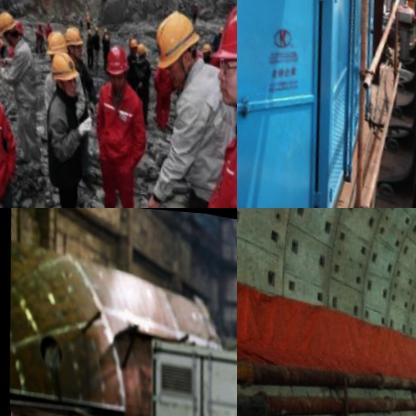helmet: (142, 0, 210, 85), (199, 0, 237, 117), (43, 46, 76, 90), (40, 25, 69, 68), (99, 40, 126, 83), (57, 20, 85, 59), (0, 3, 19, 45), (132, 37, 147, 58), (125, 31, 138, 52)
